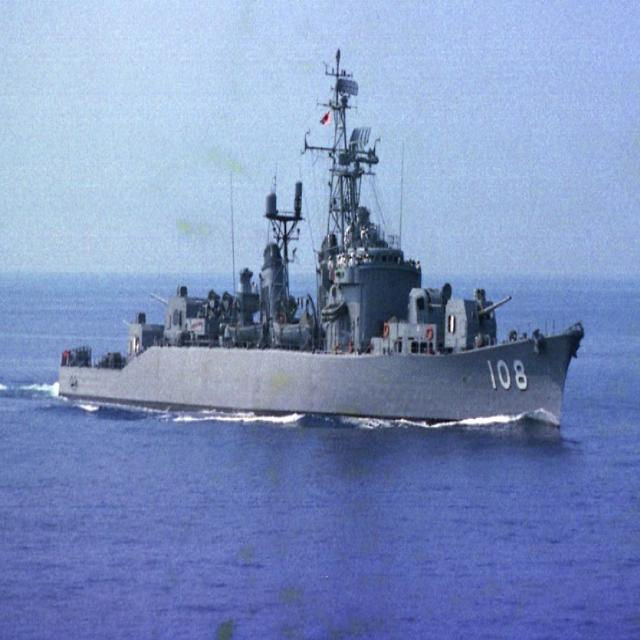navalvessels: (51, 67, 583, 465)
